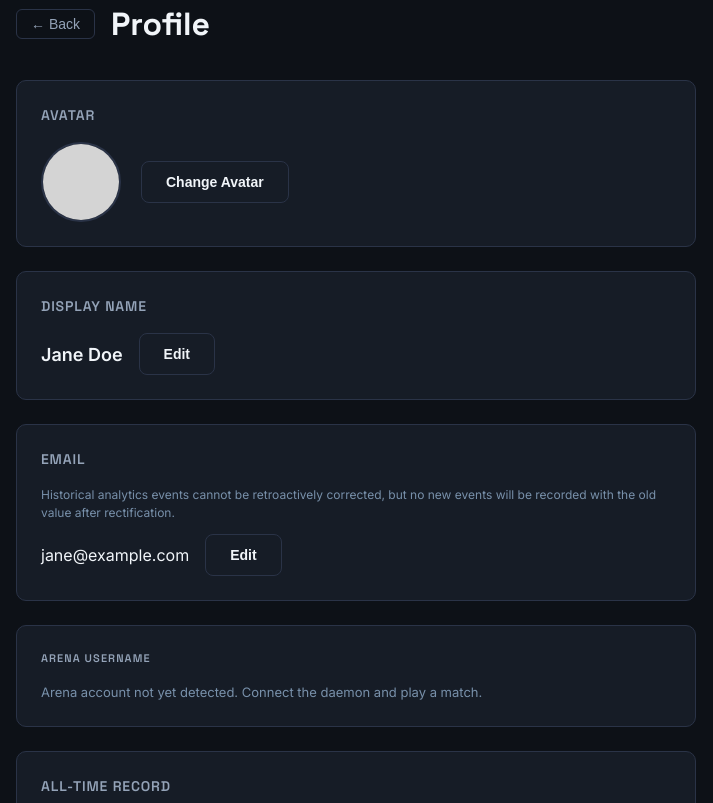
Test case: Profile — email verification step (verifying) › Cancel in verifying state returns to idle
Click the button with test id "profile-edit-email-button" at coordinates (243, 555), box [205, 534, 282, 576]
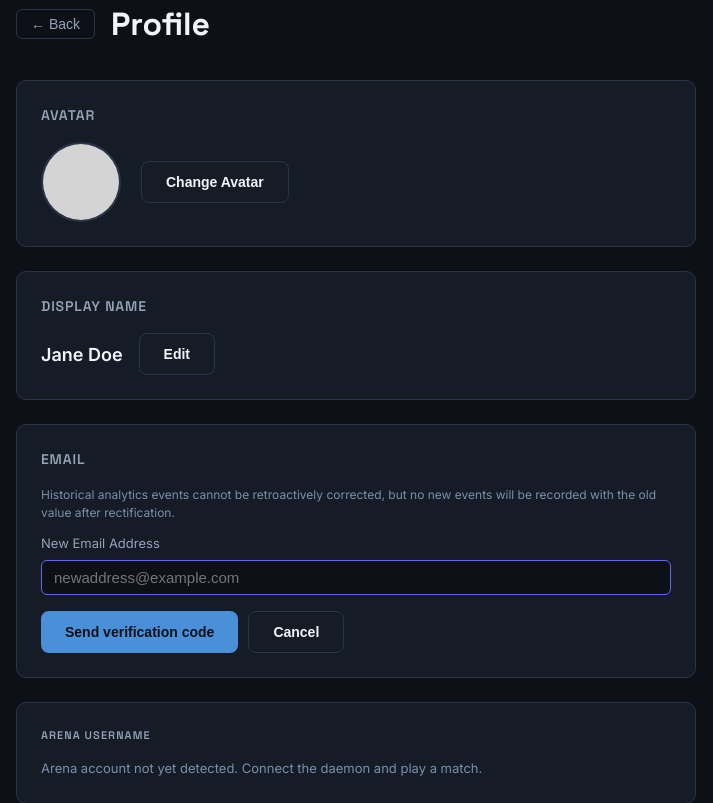
Type "newemail@example.com" into the field with test id "profile-email-input" at coordinates (356, 577), box [41, 560, 671, 594]
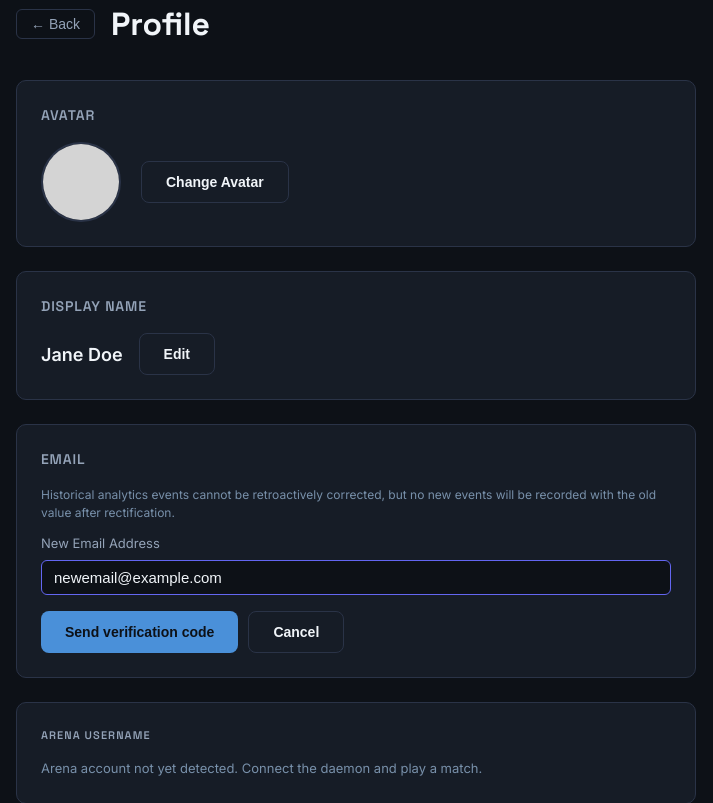
Click the button with test id "profile-email-submit-button" at coordinates (140, 632), box [41, 610, 238, 652]
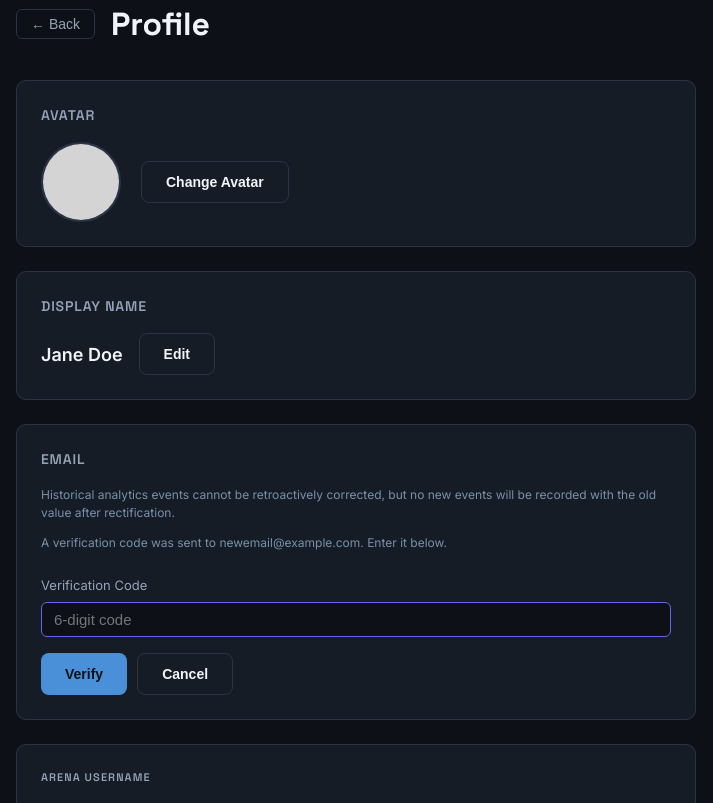
Result: the field with test id "profile-email-code-input" is shown at [41, 602, 671, 636]
Click the button with test id "profile-email-cancel-button" at coordinates (185, 674), box [137, 652, 233, 694]
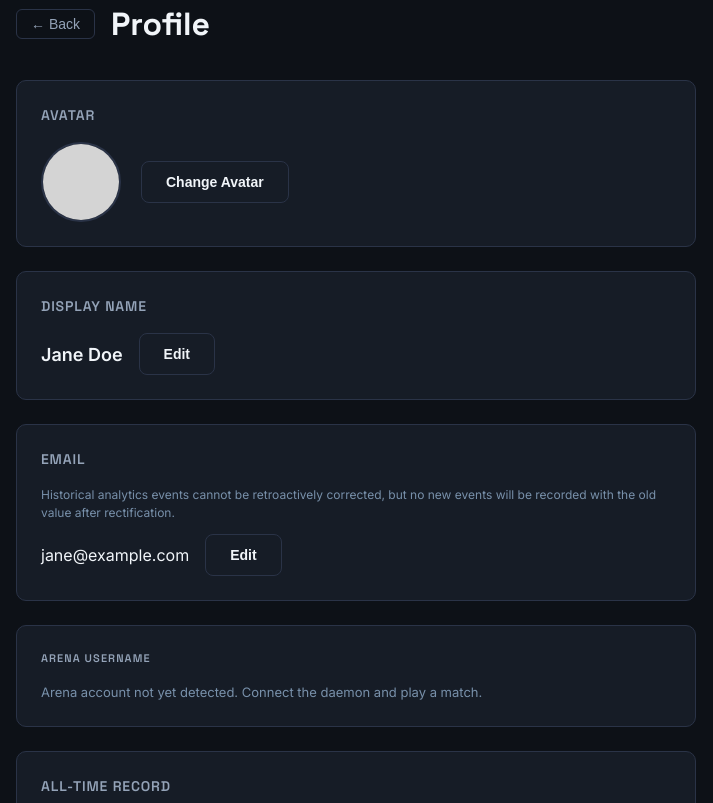
Result: the field with test id "profile-email-code-input" is gone
Result: the button with test id "profile-edit-email-button" is shown at [205, 534, 282, 576]
